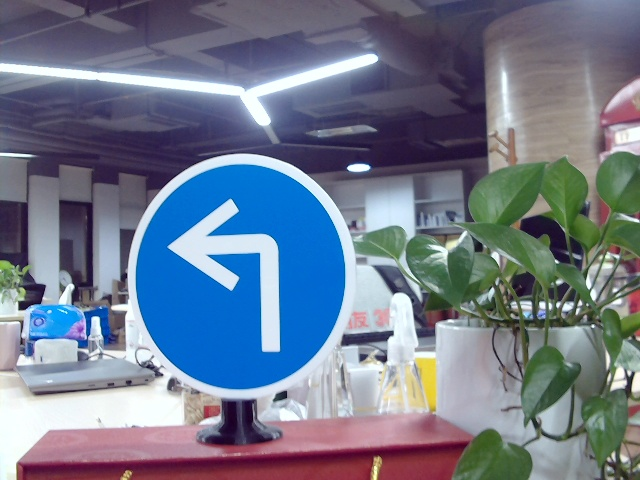turn_left: (169, 191, 298, 360)
